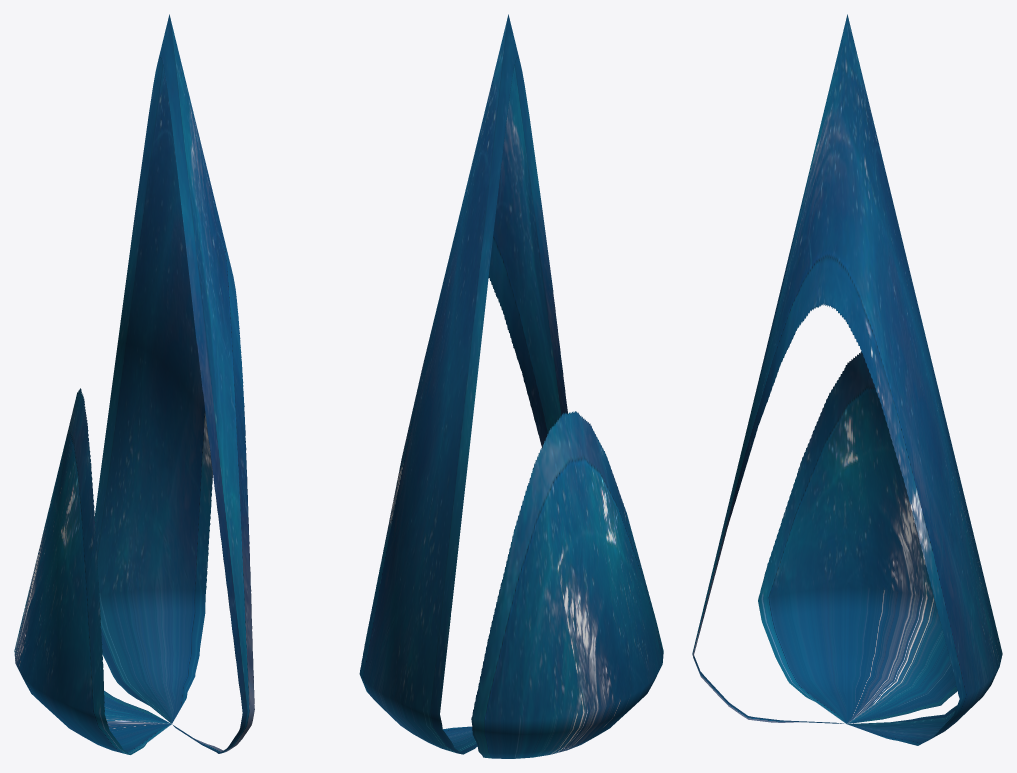
The model's file is icecle.fbx.
3 renders of one model, left to right at view 1: azimuth 30°, elevation 25°; view 2: azimuth 150°, elevation 25°; view 3: azimuth 270°, elevation 25°, orthographic.
Parts seen in each view (by area): view 1: Cone; view 2: Cone; view 3: Cone.
Boxes of the visible parts, <box> form: Cone: <box>14,14,254,754</box>; Cone: <box>359,14,663,758</box>; Cone: <box>692,14,1002,745</box>.
Bounding box in the file's own units: 3.52 × 8.89 × 3.52.
